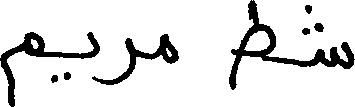X: (0, 27, 43, 106), (238, 0, 274, 69), (316, 18, 354, 73), (101, 33, 136, 89), (161, 29, 178, 68), (88, 27, 99, 86)
